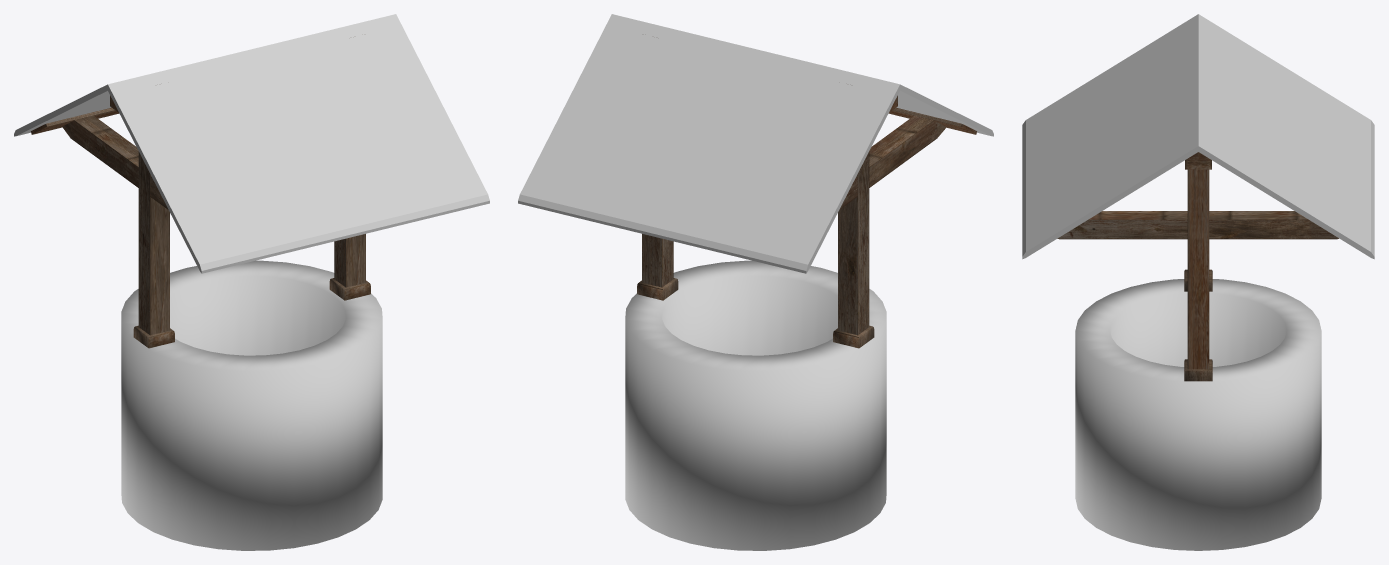
Rendered from sumur.fbx.
The picture shows the model from 3 angles, left to right: view 1: azimuth 30°, elevation 25°; view 2: azimuth 150°, elevation 25°; view 3: azimuth 270°, elevation 25°; orthographic projection. The views are drawn at different scales.
Parts seen in each view (by area): view 1: Cylinder, Cube.003, Cube.002, Cube, Cube.005, Cube.007, Cube.008; view 2: Cylinder, Cube.003, Cube.002, Cube, Cube.005, Cube.007, Cube.008; view 3: Cylinder, Cube.003, Cube.006, Cube.005, Cube.008.
Boxes of the visible parts, x1,y1,x2,y2 form: Cylinder: (121,260,382,550); Cube.003: (14,14,489,273); Cube.002: (138,151,169,335); Cube: (62,115,168,209); Cube.005: (334,234,365,287); Cube.007: (133,325,174,348); Cube.008: (329,278,370,300); Cylinder: (625,260,886,550); Cube.003: (518,14,993,273); Cube.002: (838,151,869,335); Cube: (839,115,946,209); Cube.005: (642,234,673,287); Cube.007: (833,325,874,348); Cube.008: (637,278,678,300); Cylinder: (1075,279,1321,550); Cube.003: (1022,14,1374,259); Cube.006: (1057,211,1338,239); Cube.005: (1187,169,1209,369); Cube.008: (1184,359,1212,381).
Bounding box in the file's own units: 385 × 570 × 434.
